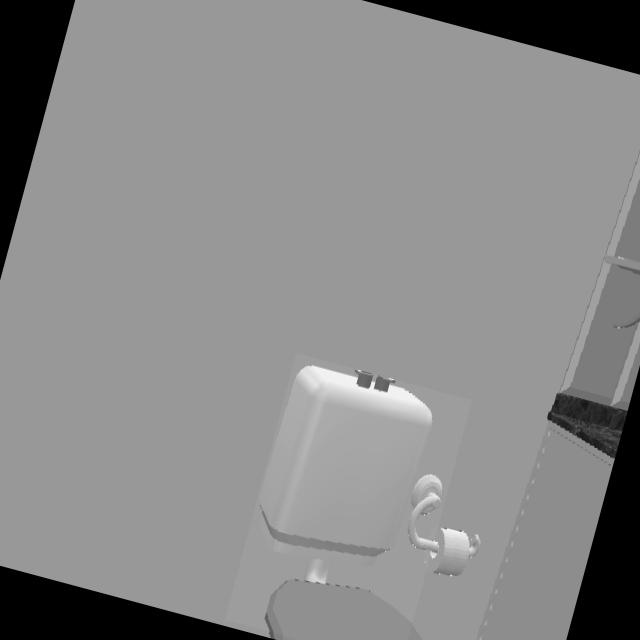toilet: (256, 366, 433, 640)
